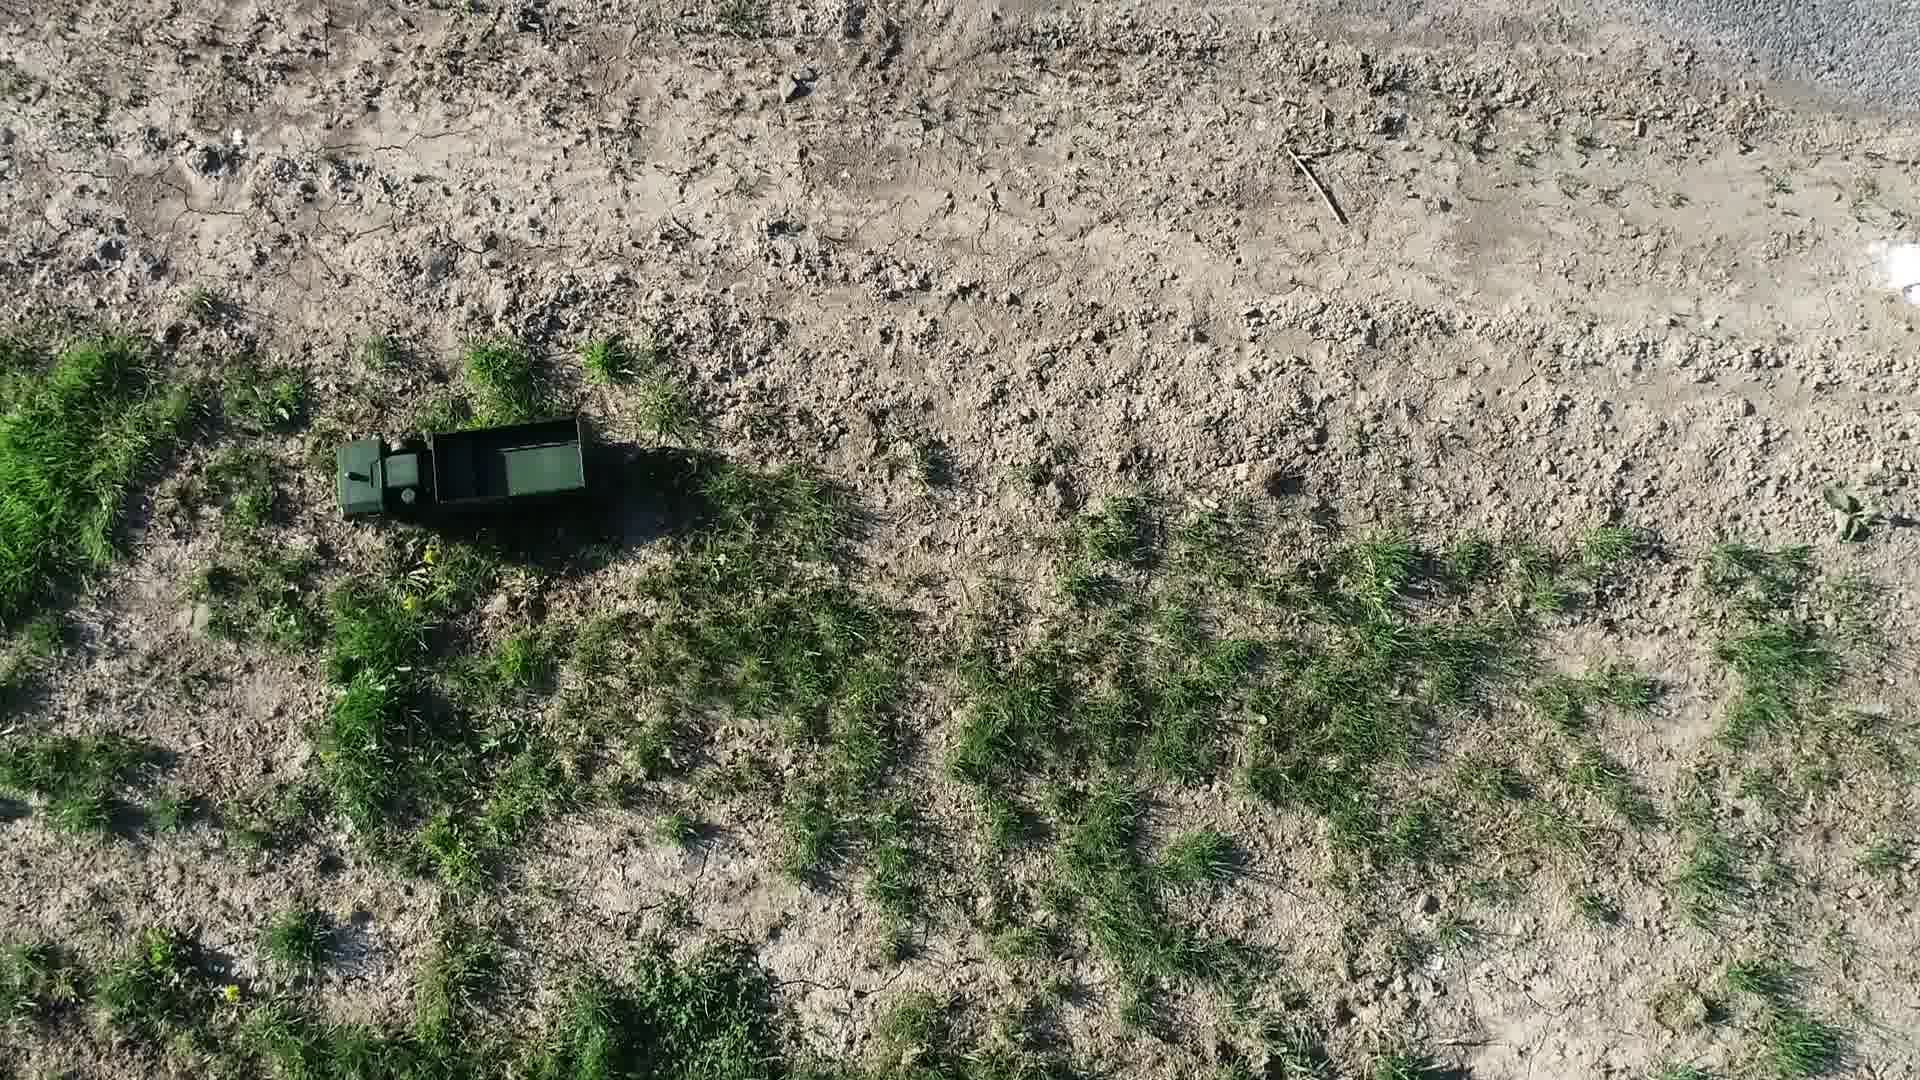transporter9: (326, 401, 609, 541)
